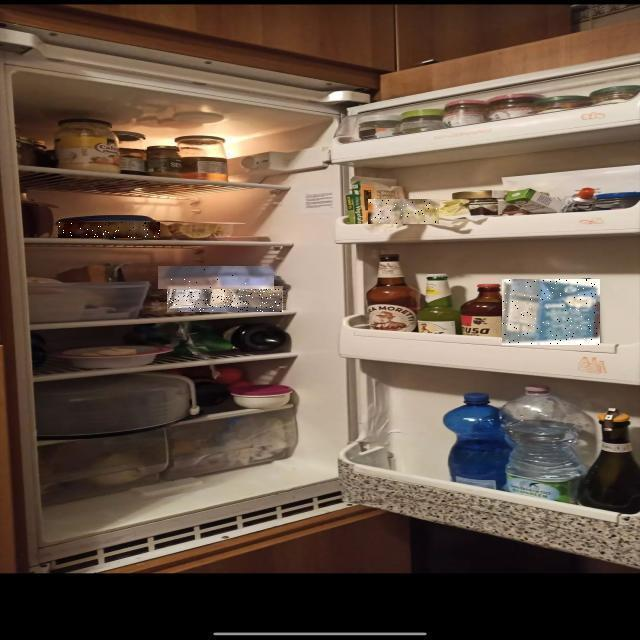Butter: (368, 199, 439, 224)
Cheese: (58, 222, 160, 238)
Eggs: (158, 266, 274, 289)
Milk: (503, 279, 601, 345)
Yoghurt: (168, 286, 286, 312)
